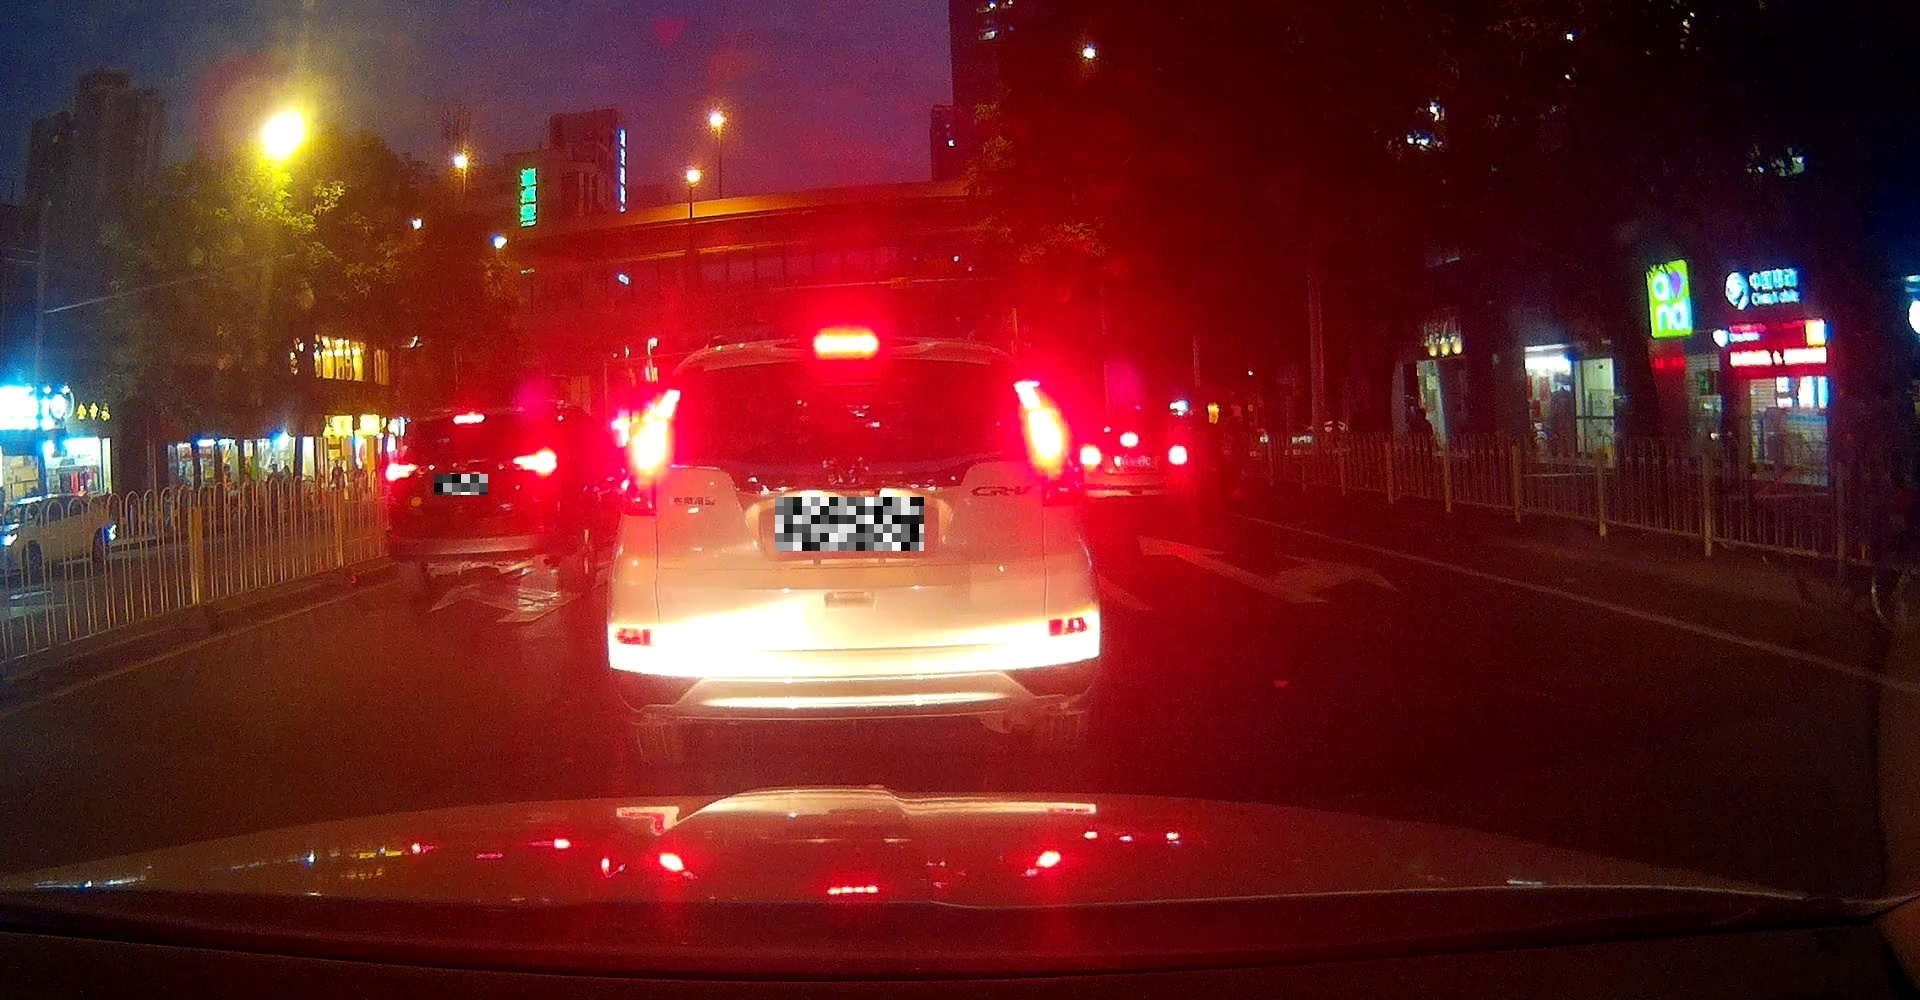L_light: (618, 388, 681, 516), (383, 461, 425, 482)
R_light: (1015, 379, 1087, 503), (510, 448, 557, 475)
T_light: (811, 335, 879, 354), (453, 412, 485, 426)
night-brake: (604, 327, 1103, 761), (382, 406, 563, 577)
plate_1: (434, 475, 488, 495)
plate_2: (775, 497, 924, 551)
